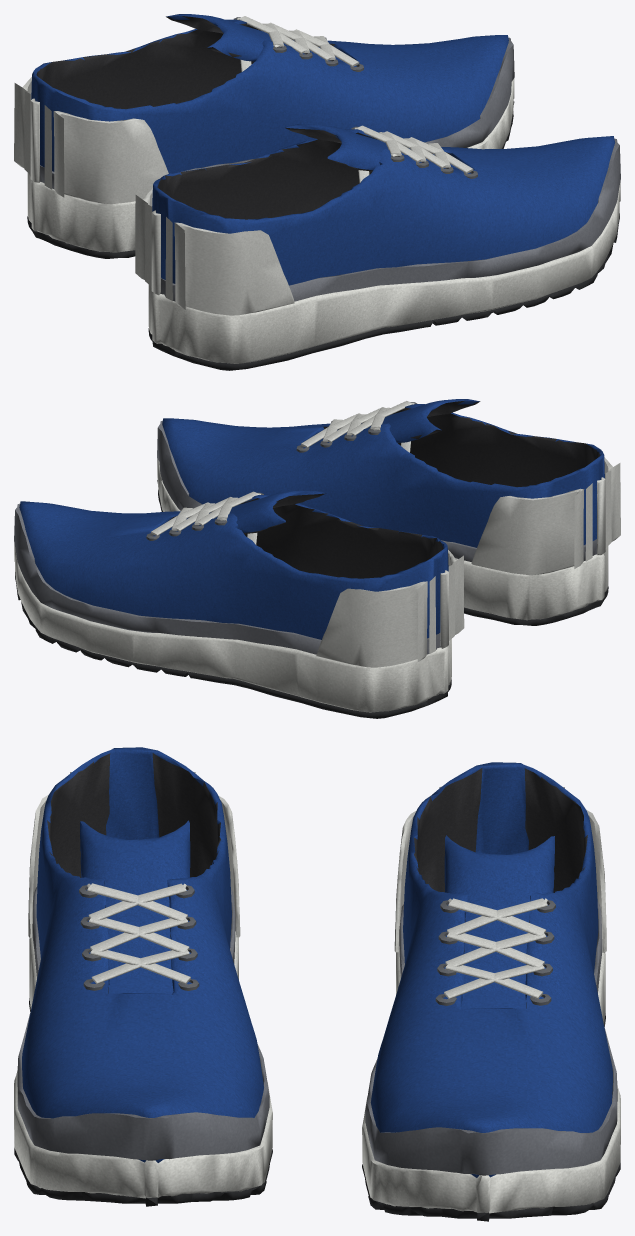
File: running.glb
3 views of the same model, one above another, from view 1: azimuth 30°, elevation 25°; view 2: azimuth 150°, elevation 25°; view 3: azimuth 270°, elevation 25° (orthographic). The views are drawn at different scales.
Parts seen in each view (by area): view 1: Upper, right, Upper, left, Midsole, right, Heel counter, right, Heel counter, left, Mudguard and toe bumper, right, Midsole, left, Outsole, right, Mudguard and toe bumper, left, Tongue, left, Tongue, right, Laces and eyelets, left (+2 smaller); view 2: Upper, left, Upper, right, Midsole, left, Heel counter, right, Heel counter, left, Midsole, right, Mudguard and toe bumper, left, Outsole, left, Tongue, right, Tongue, left, Mudguard and toe bumper, right, Laces and eyelets, right (+2 smaller); view 3: Upper, left, Upper, right, Mudguard and toe bumper, right, Mudguard and toe bumper, left, Midsole, right, Midsole, left, Tongue, left, Tongue, right, Laces and eyelets, right, Laces and eyelets, left, Outsole, left, Outsole, right (+2 smaller).
Boxes of the visible parts, x1,y1,x2,y2 form: Upper, right: [152, 129, 614, 285]; Upper, left: [31, 19, 508, 173]; Midsole, right: [148, 181, 620, 363]; Heel counter, right: [135, 188, 294, 315]; Heel counter, left: [14, 77, 168, 204]; Mudguard and toe bumper, right: [160, 138, 620, 301]; Midsole, left: [27, 78, 514, 252]; Outsole, right: [148, 213, 619, 370]; Mudguard and toe bumper, left: [40, 37, 514, 189]; Tongue, left: [166, 14, 342, 61]; Tongue, right: [284, 124, 457, 171]; Laces and eyelets, left: [233, 16, 363, 71]; Upper, left: [19, 495, 448, 639]; Upper, right: [162, 404, 604, 547]; Midsole, left: [14, 543, 451, 712]; Heel counter, right: [471, 457, 620, 575]; Heel counter, left: [316, 550, 464, 667]; Midsole, right: [157, 459, 608, 620]; Mudguard and toe bumper, left: [14, 503, 440, 654]; Outsole, left: [15, 572, 451, 718]; Tongue, right: [316, 399, 480, 442]; Tongue, left: [165, 490, 325, 533]; Mudguard and toe bumper, right: [157, 421, 596, 562]; Laces and eyelets, right: [296, 401, 417, 452]; Upper, left: [370, 762, 612, 1177]; Upper, right: [22, 747, 263, 1162]; Mudguard and toe bumper, right: [17, 886, 269, 1160]; Mudguard and toe bumper, left: [365, 901, 617, 1175]; Midsole, right: [14, 931, 272, 1198]; Midsole, left: [362, 946, 620, 1213]; Tongue, left: [444, 835, 554, 1009]; Tongue, right: [80, 820, 190, 994]; Laces and eyelets, right: [79, 883, 199, 990]; Laces and eyelets, left: [435, 898, 555, 1005]; Outsole, left: [362, 1013, 620, 1221]; Outsole, right: [14, 998, 272, 1206].
Size of the model in its own units: 0.312 by 0.1049 by 0.2582.
8 materials, 8 textured.
